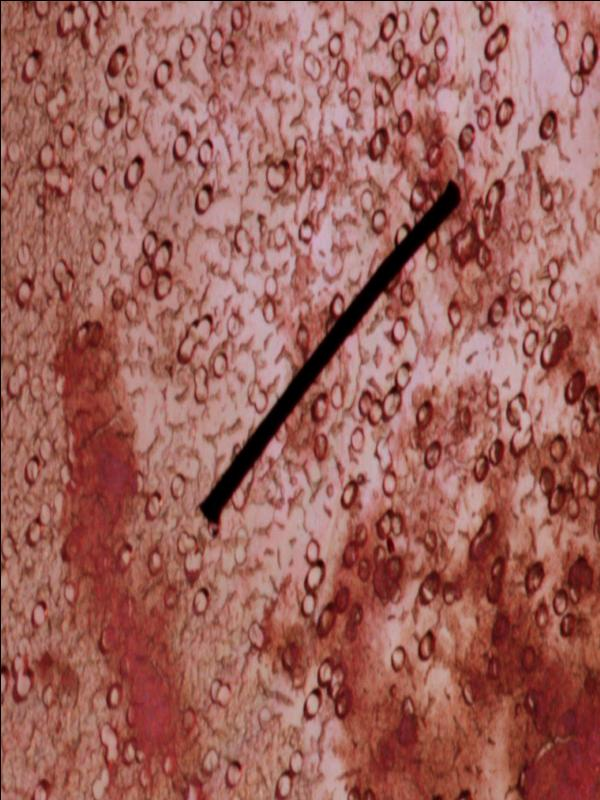microplastic: (2, 3, 599, 799), (195, 178, 461, 535)
